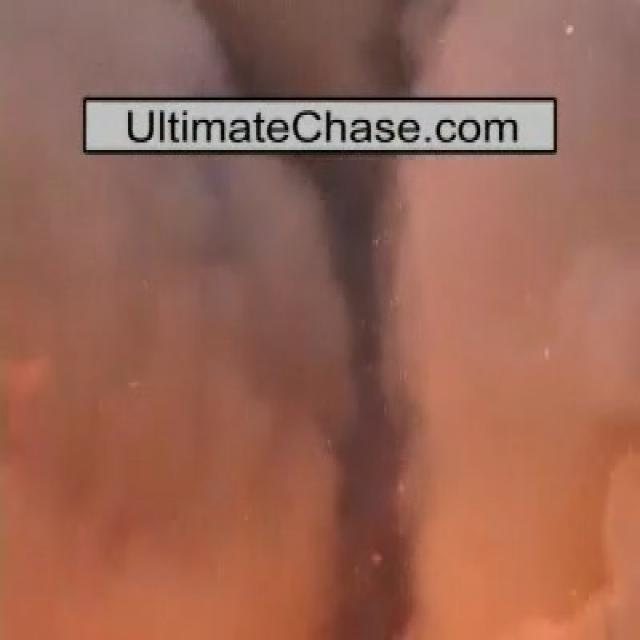smoke: (19, 164, 624, 604), (105, 2, 538, 90)
